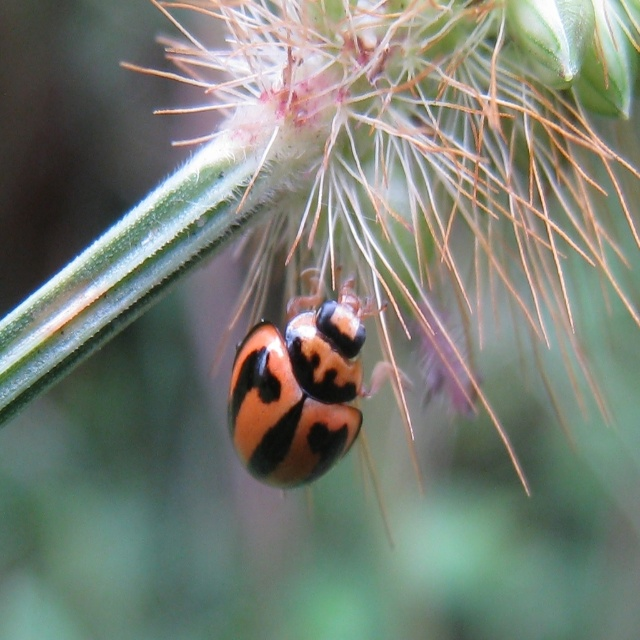Ladybug: (223, 283, 395, 498)
